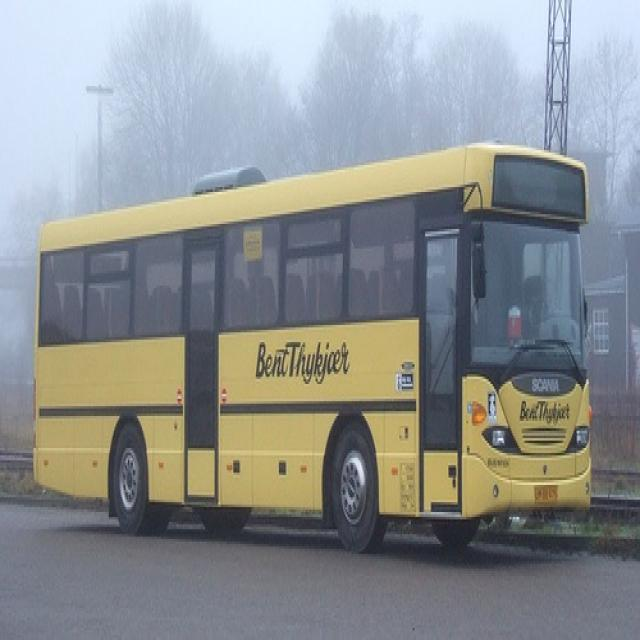bus: (32, 140, 589, 554)
